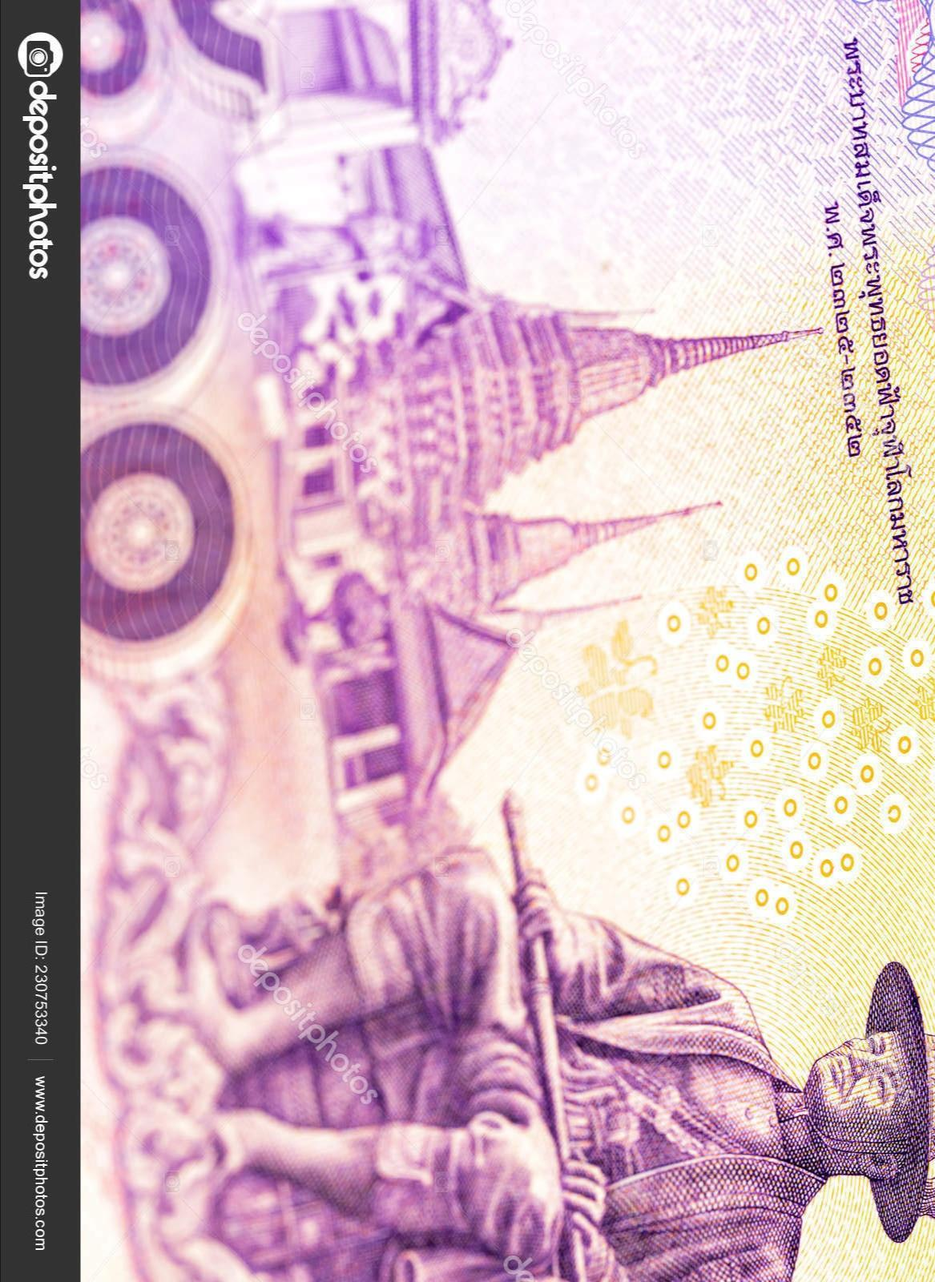500BahtTai: (79, 0, 935, 1282)
